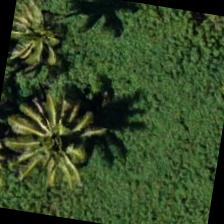Kelapa_Sawit: (0, 91, 103, 195), (4, 0, 92, 89)
